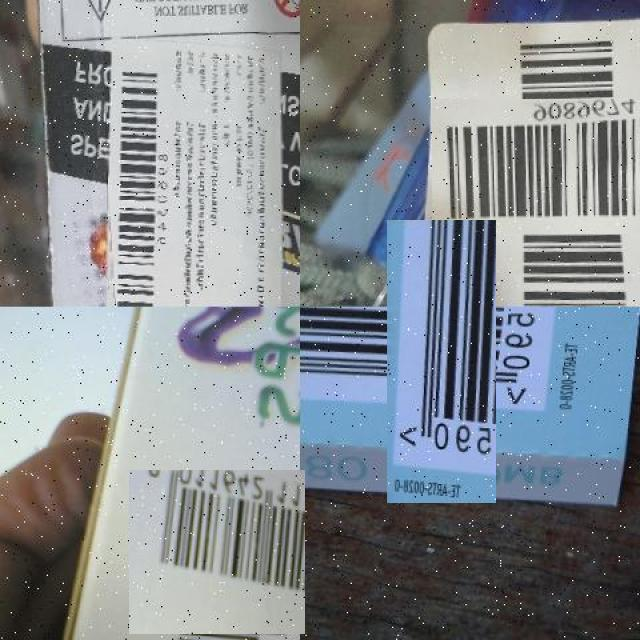Barcode: (343, 264, 540, 460), (468, 62, 640, 270), (132, 467, 303, 637), (105, 61, 168, 307)
